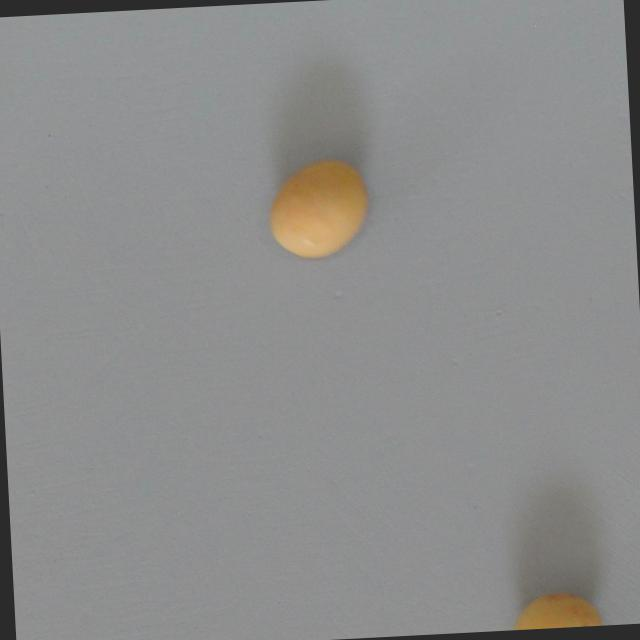cuerpos_extranos: (262, 153, 374, 268), (499, 576, 618, 631)
